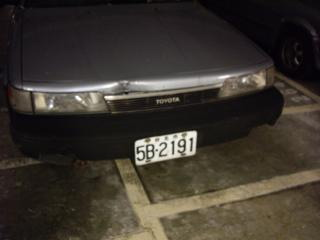plate: (133, 128, 198, 168)
